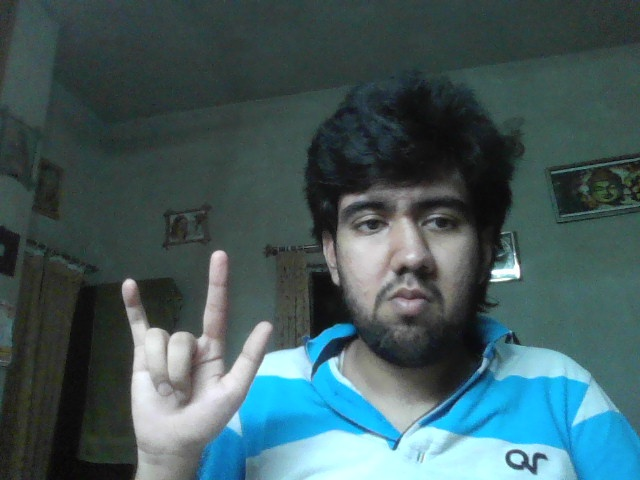ILoveYou: (121, 249, 273, 454)
